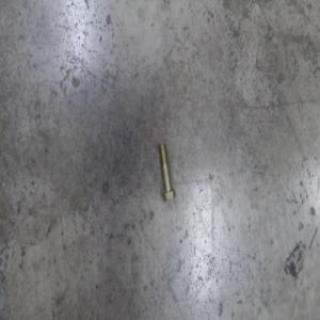Bolttrack_idkeyframe: (157, 141, 175, 202)
